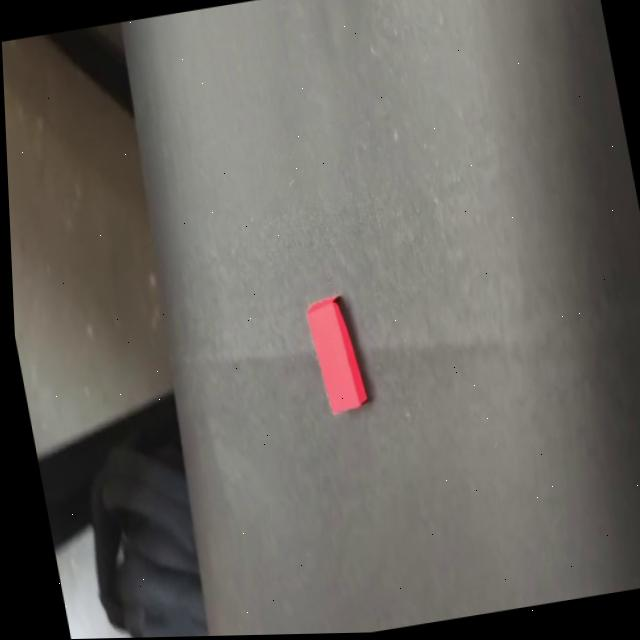red block: (301, 294, 370, 418)
